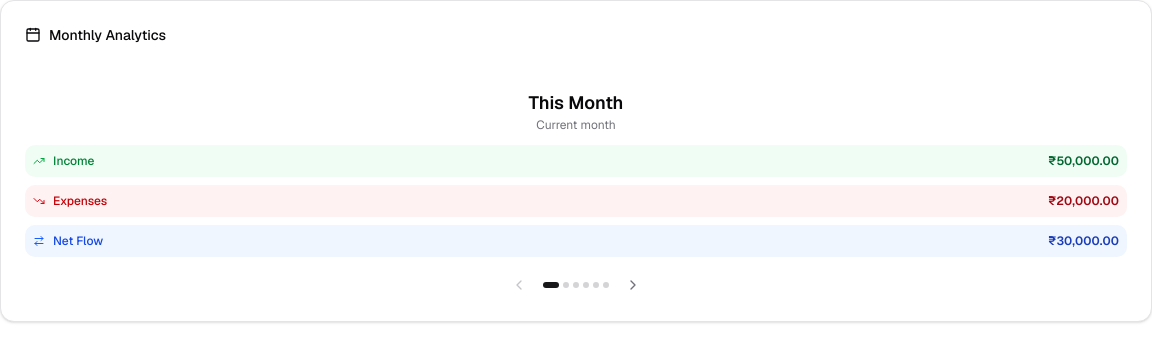
Test case: MonthlyAnalyticsCard › steps back with the previous arrow
Click the button named "View next range": click(633, 285) [621,273,645,297]
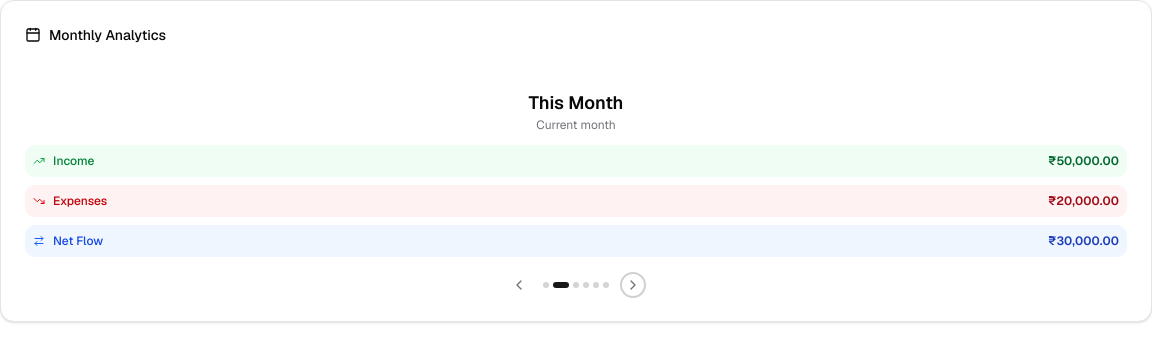
Click the button named "View previous range": click(519, 285) [507,273,531,297]
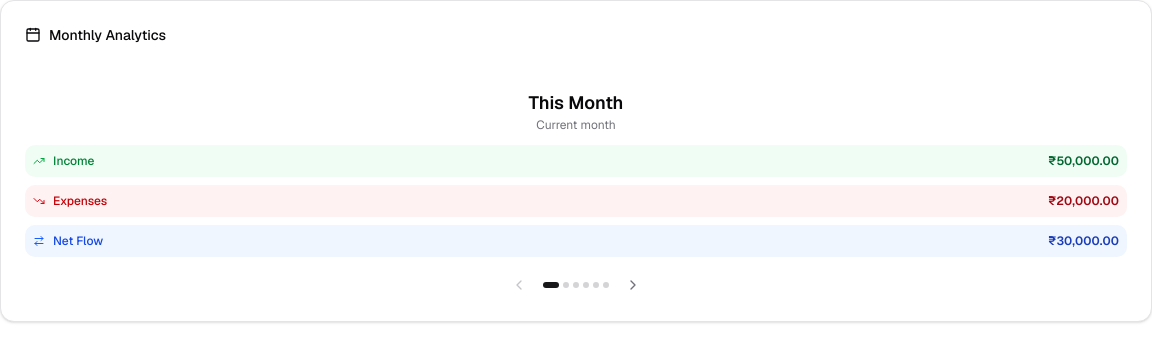
Expected: the button named "View previous range" is disabled, [507,273,531,297]
